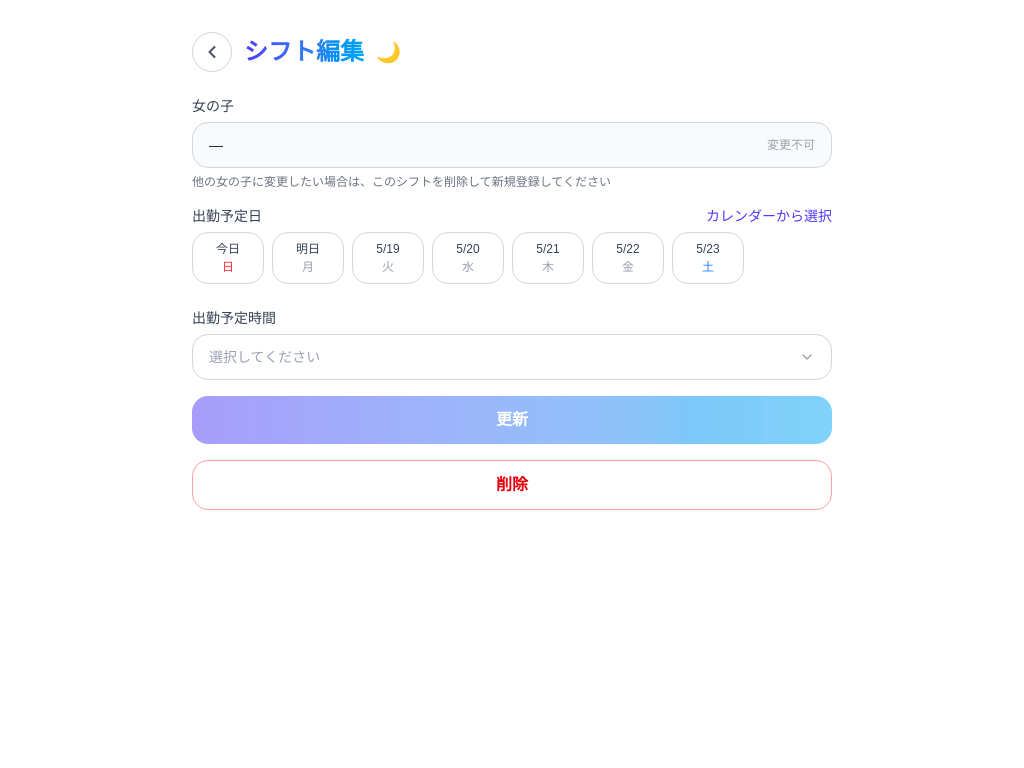
it: シフト編集ページ › 時間選択ボタンを押すとボトムシートが開き、選んだ時間が反映される
What coordinates should you click on to do the following:
click the button with aria-label "出勤予定時間を選択"
I would click on:
 (265, 357)
Its box is [192,334,832,380].
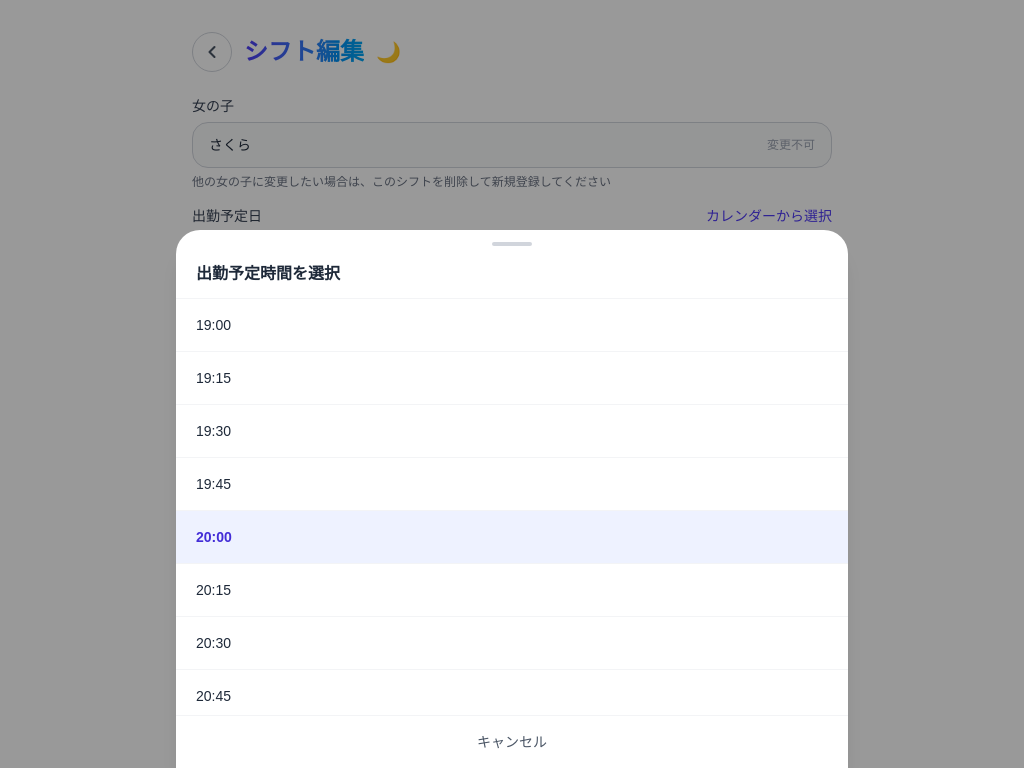
# シート内の「19:30」を選択（timeOptionsは19:00-22:00の15分刻み）
What coordinates should you click on to do the following:
click the button "19:30"
I would click on:
 (214, 431)
Its box is [176,405,848,458].
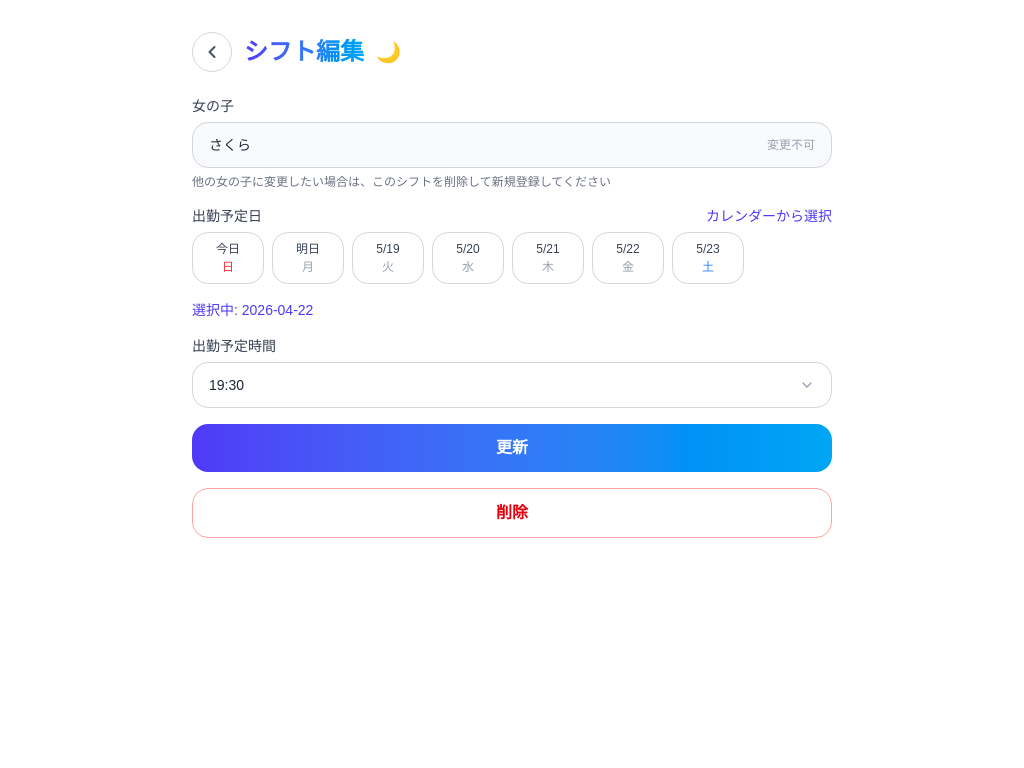
Expected: the button named "出勤予定時間を選択" reads "19:30", [192,362,832,408]
